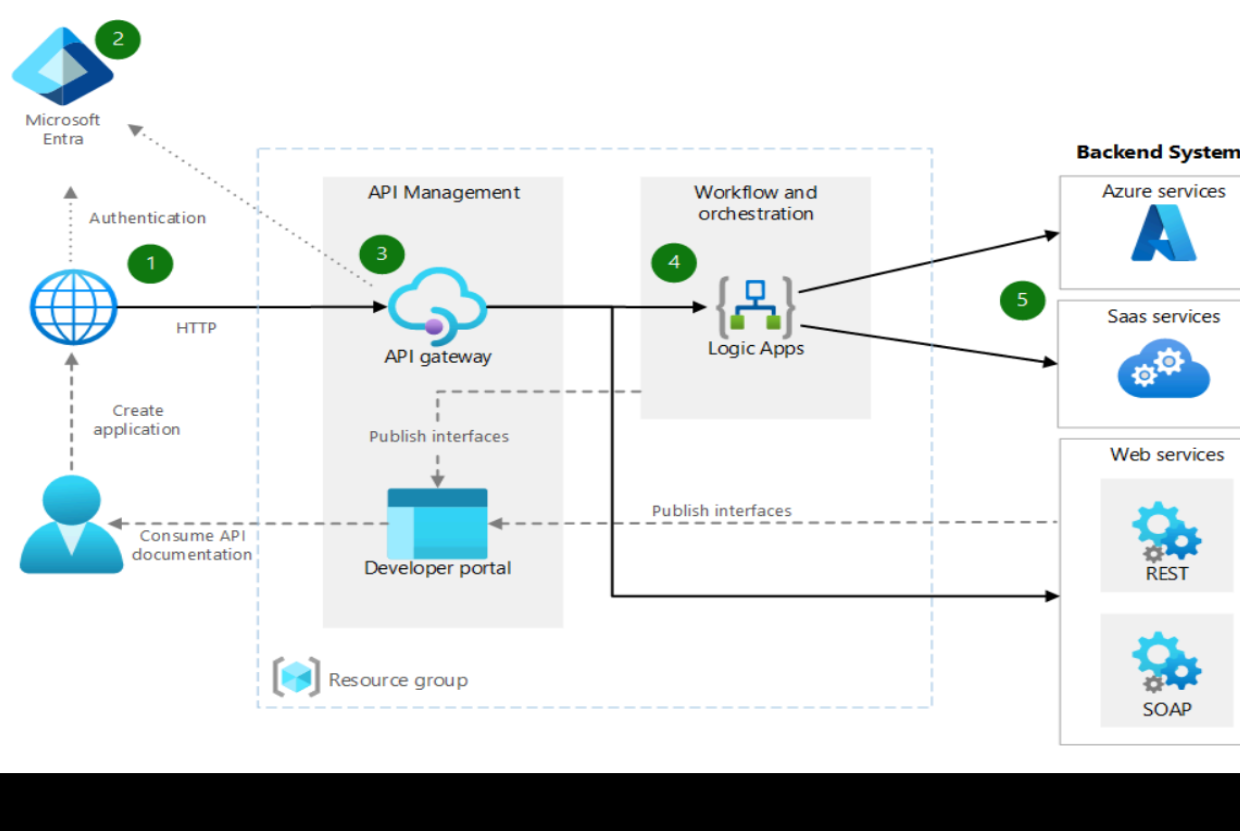api: (1127, 629, 1210, 722), (1124, 498, 1208, 585)
azure_services: (1095, 179, 1233, 267)
developer_portal: (380, 483, 489, 558)
logic_apps: (713, 268, 794, 339)
microsoft_entra: (5, 22, 118, 106), (384, 266, 489, 347)
resource_group: (26, 267, 119, 346), (267, 651, 322, 697)
sass_services: (1106, 331, 1219, 402)
user: (16, 475, 124, 575)
